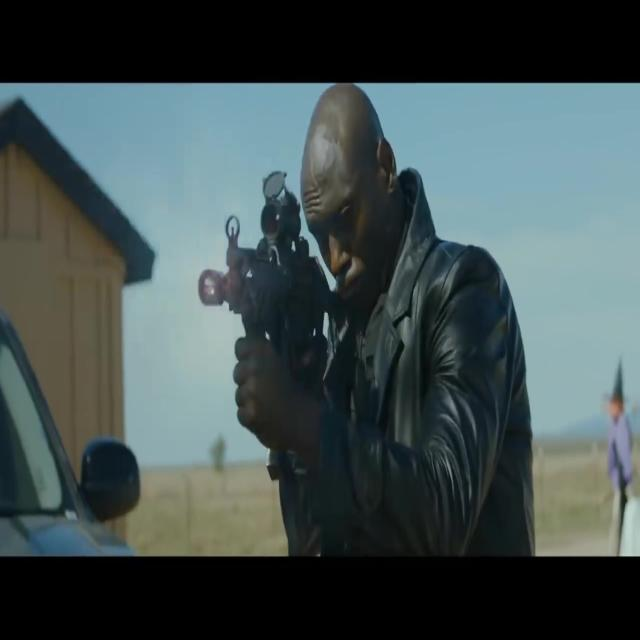Weapon: (144, 103, 390, 488)
